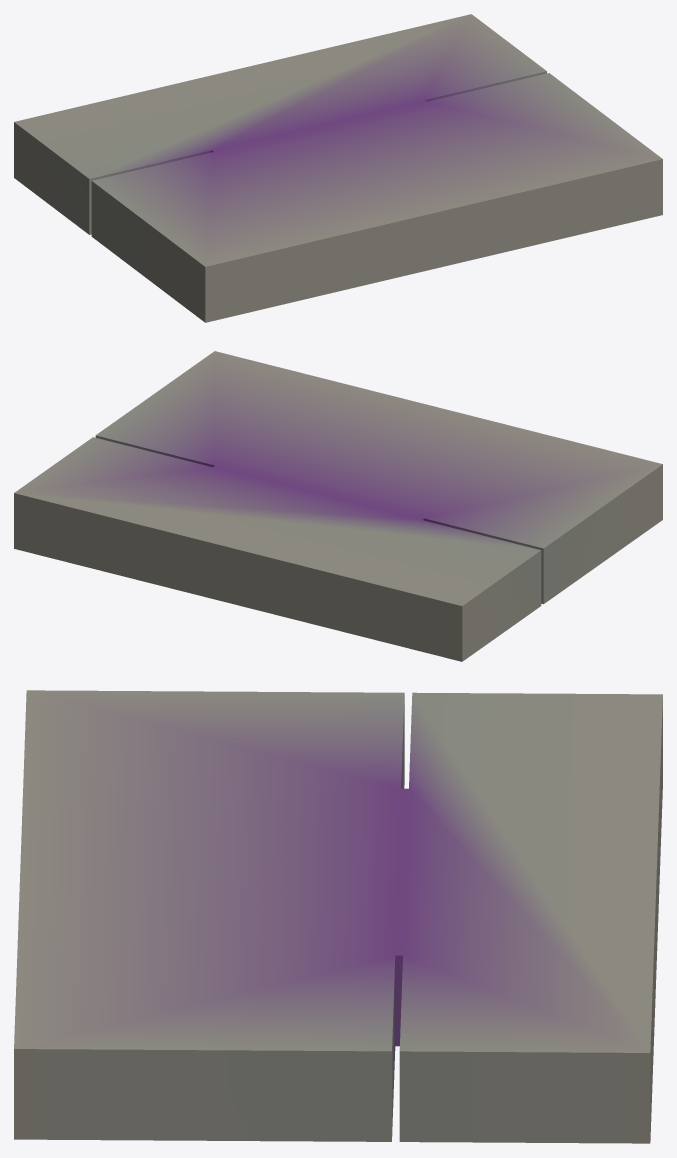
Rendered from simready-box_cardboard_folded_brown_a04.glb.
3 views of the same model, one above another, from view 1: azimuth 30°, elevation 25°; view 2: azimuth 150°, elevation 25°; view 3: azimuth 270°, elevation 25° (orthographic). The views are drawn at different scales.
Parts seen in each view (by area): view 1: stack; view 2: stack; view 3: stack.
Boxes of the visible parts, x1,y1,x2,y2 form: stack: [14, 14, 662, 322]; stack: [14, 351, 662, 661]; stack: [14, 690, 662, 1143].
Bounding box in the file's own units: 0.8897 × 0.1037 × 0.6729.
